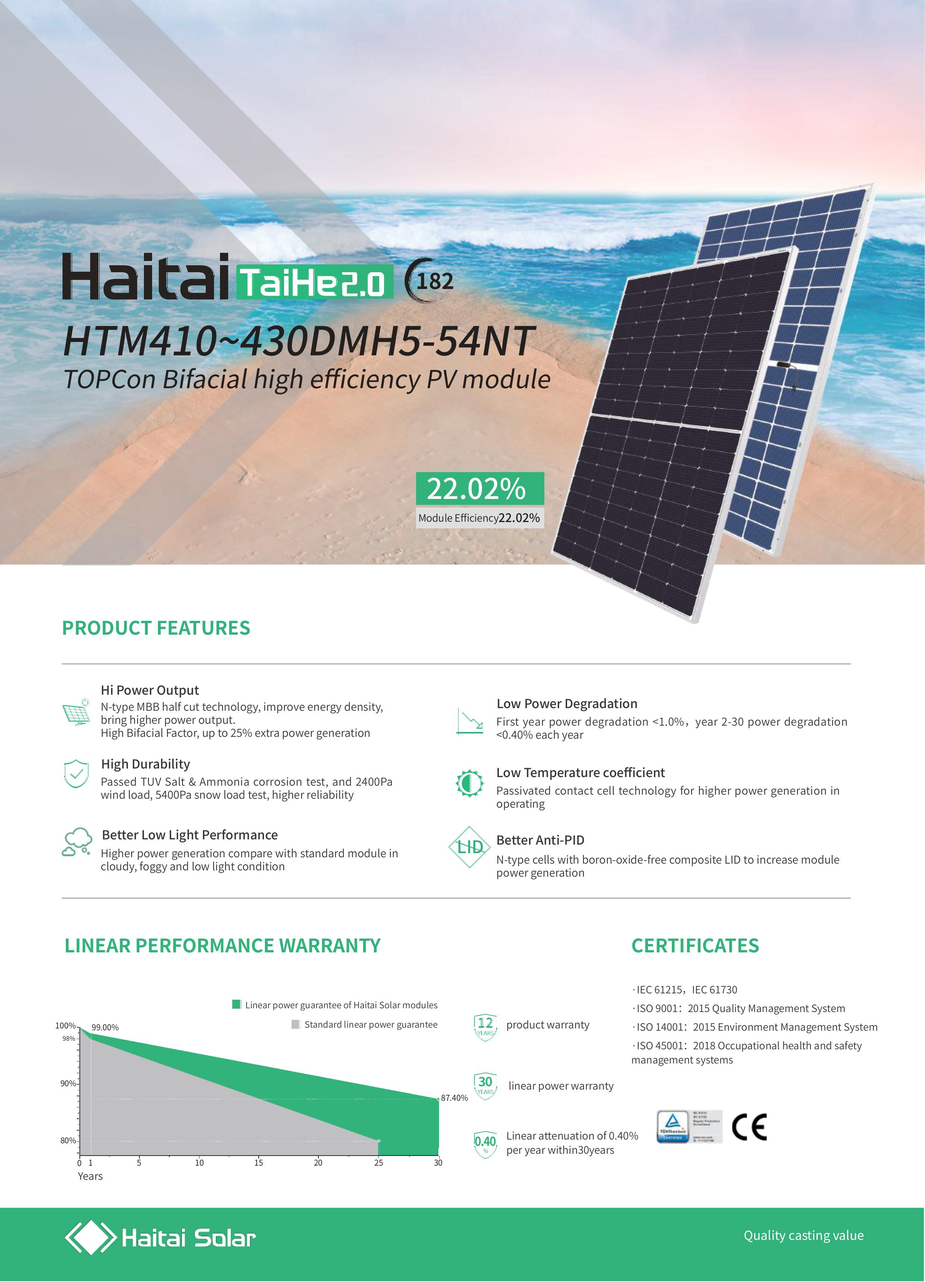no object: (635, 928, 892, 1069)
